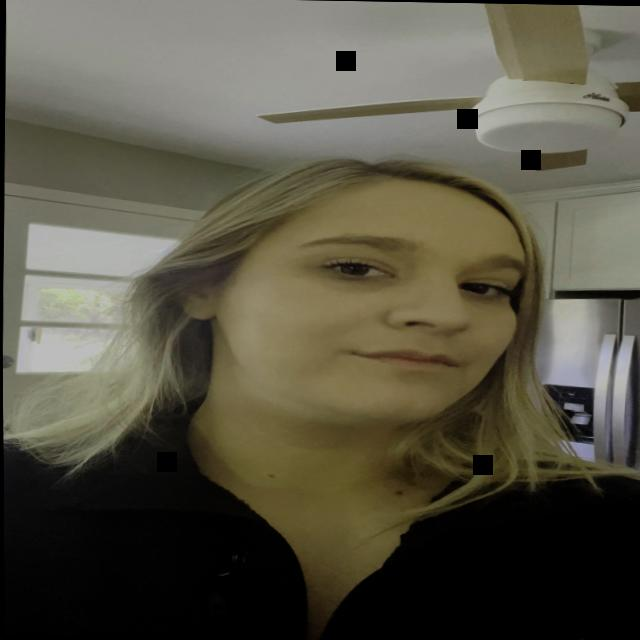NO-Mask: (178, 153, 540, 452)
